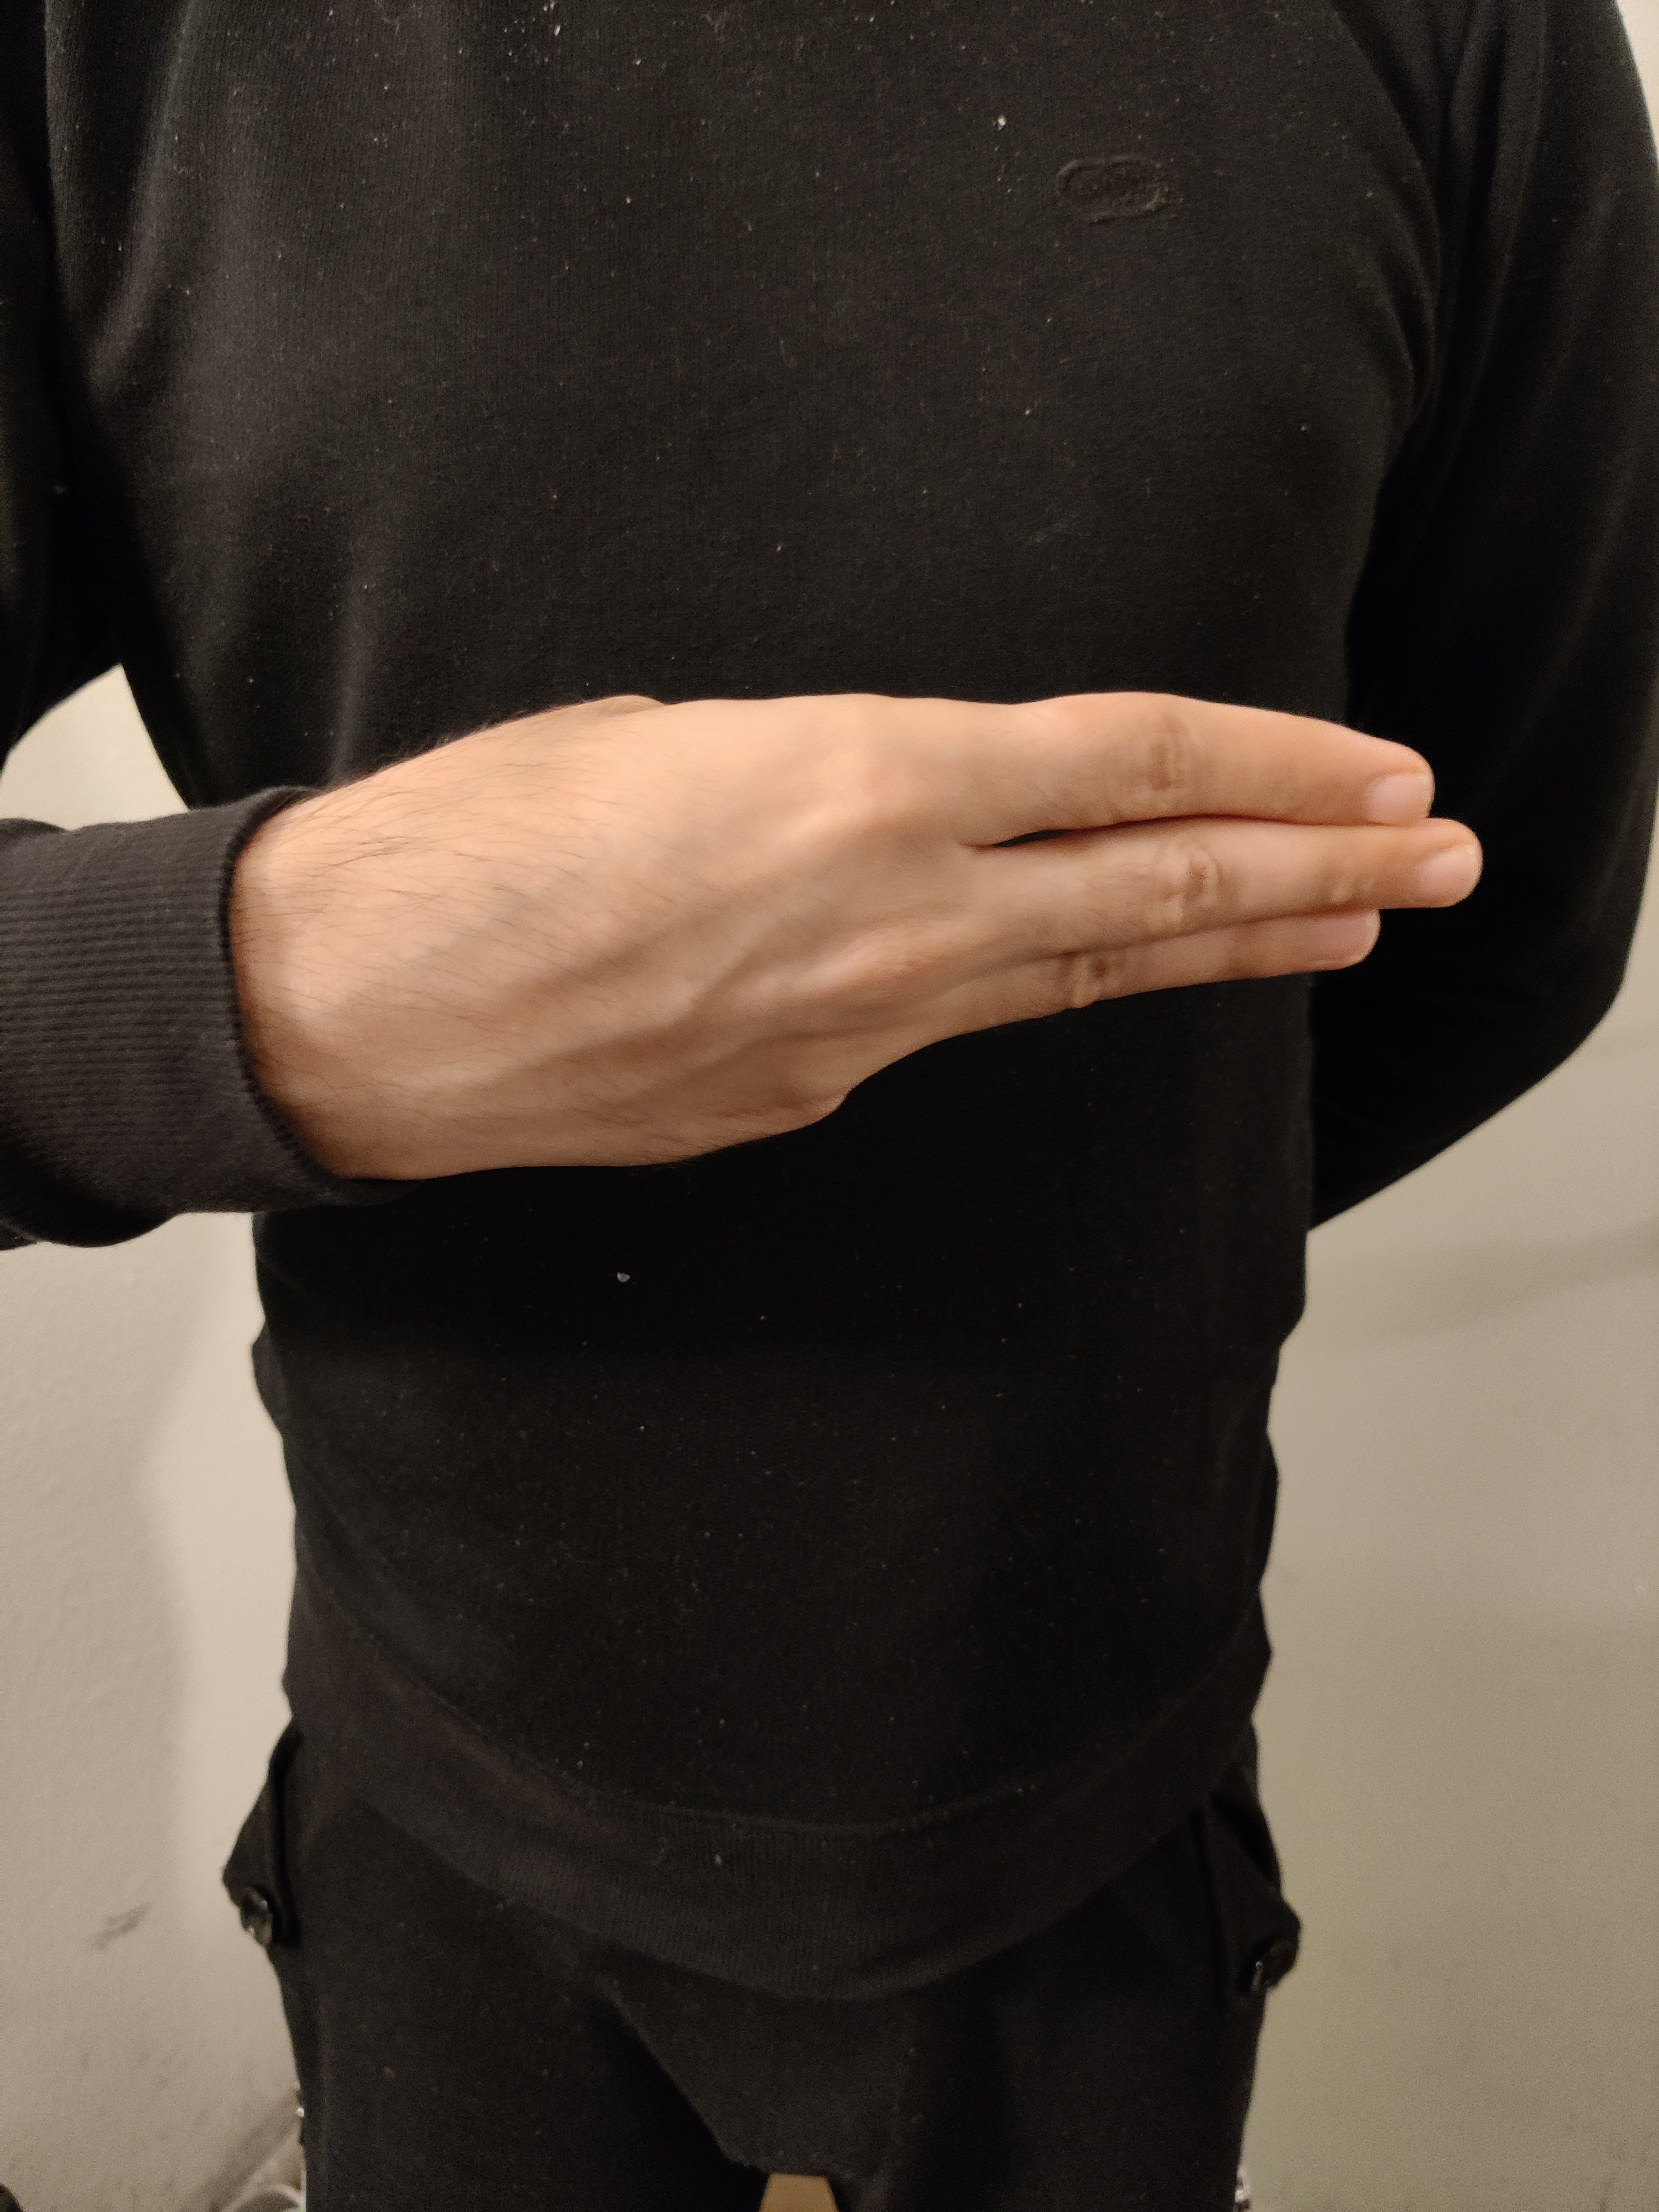left: (129, 411, 1575, 1390)
